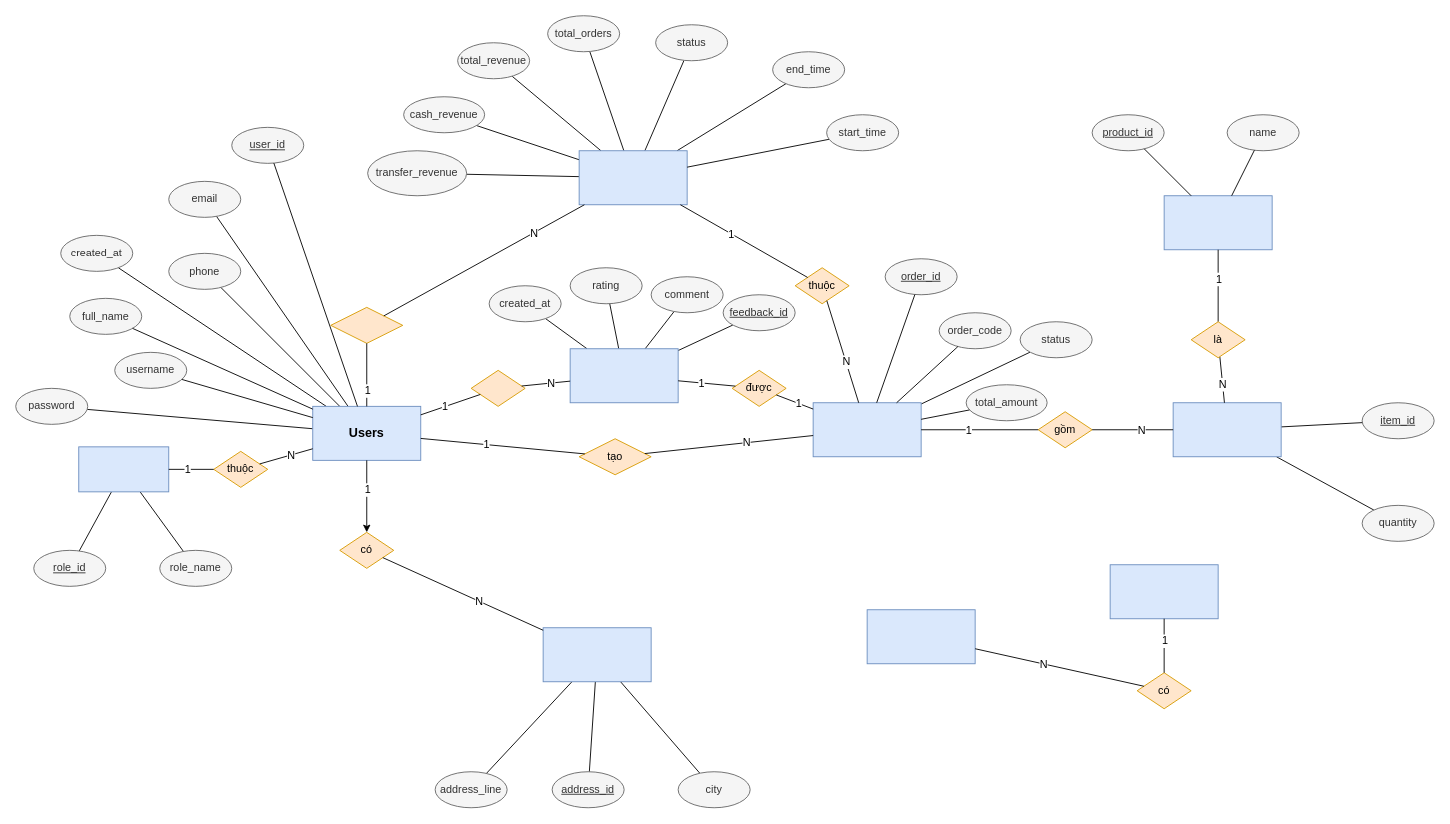
Some shapes in this 1450 by 824 pixel diagram are drawn without their labels. Each missing label, with the centre of its shape:
Addresses: (x=596, y=654)
Feedbacks: (x=623, y=375)
Materials: (x=1163, y=591)
OrderItems: (x=1226, y=429)
Orders: (x=866, y=429)
phụ trách: (x=366, y=324)
Products: (x=1217, y=222)
Roles: (x=123, y=469)
Shifts: (x=632, y=177)
StockTransactions: (x=920, y=636)
viết: (x=497, y=387)
